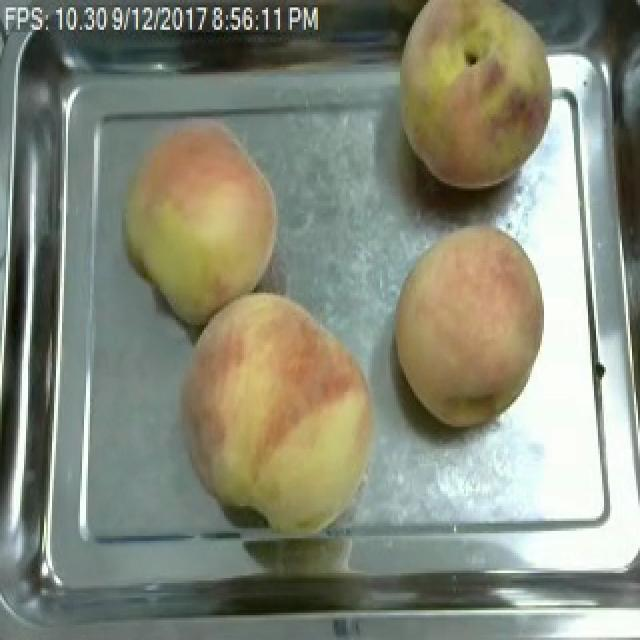Fruit: (172, 286, 388, 538), (114, 114, 288, 333), (384, 218, 554, 437), (386, 0, 570, 201)
